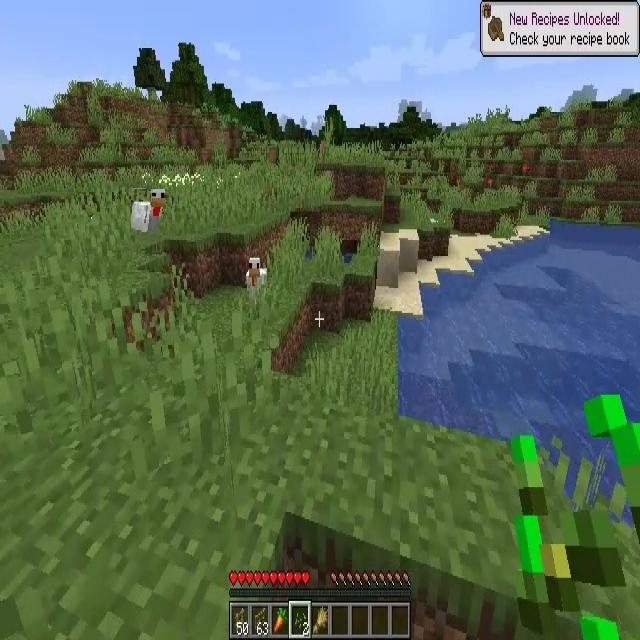duck: (131, 190, 167, 236), (246, 257, 268, 307)
